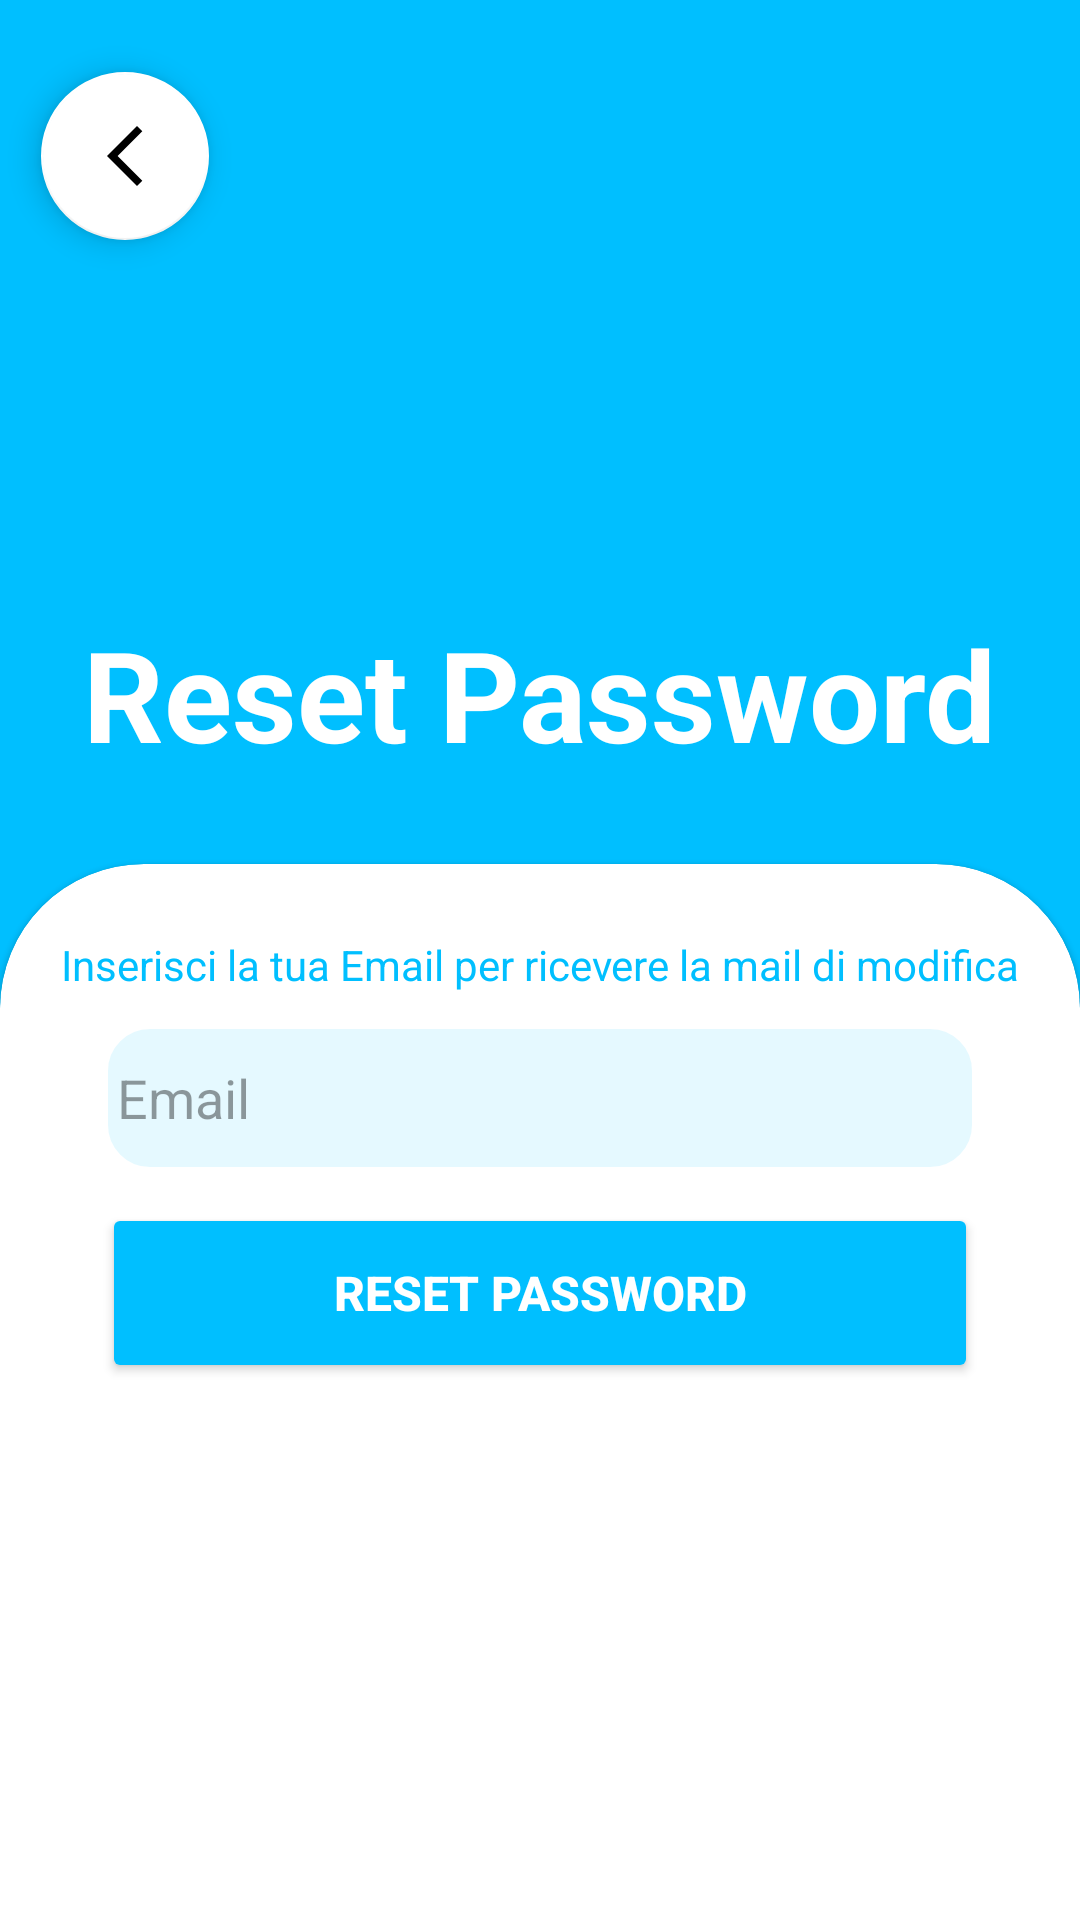

Icons on this 1080*1920 Android screen, each with its box as (x1, y1, x2, y2):
arrow back: (41, 72, 209, 240)
